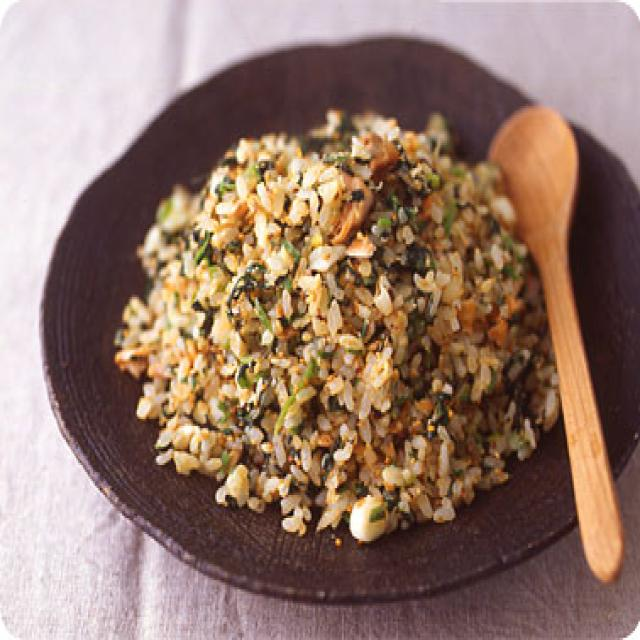米饭主食: (34, 51, 640, 596)
